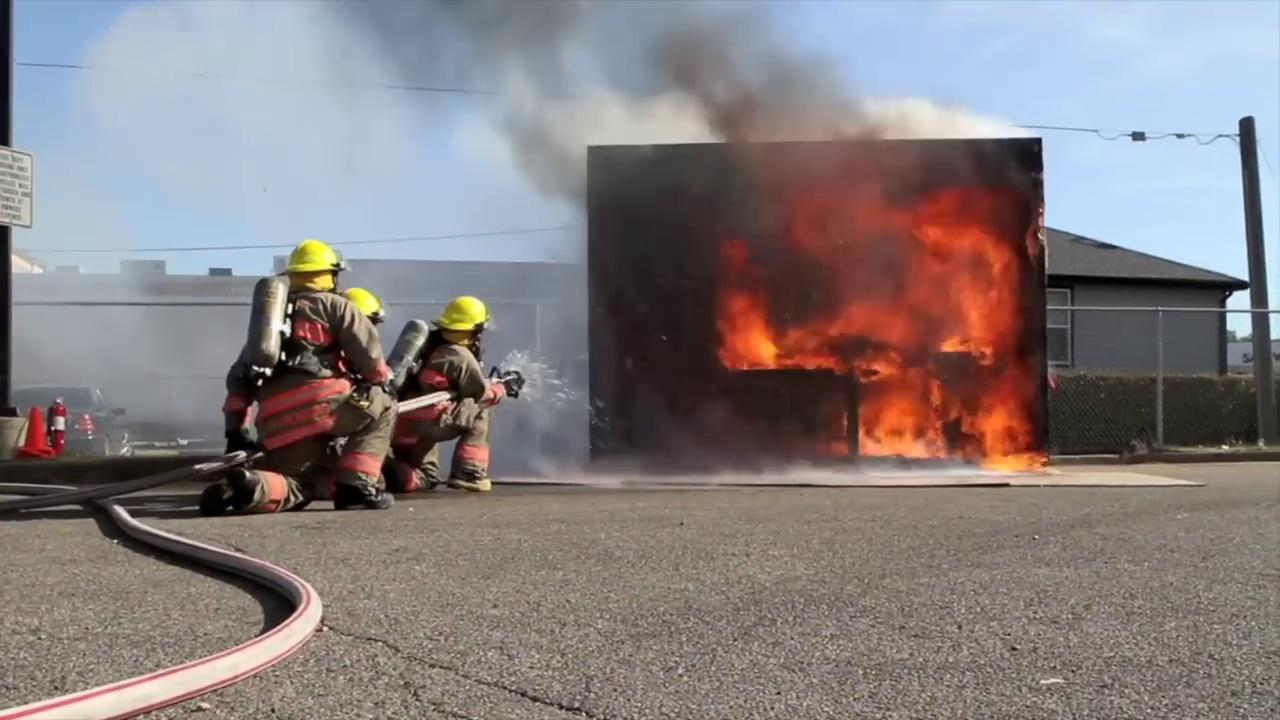Fire: (682, 133, 1046, 471)
